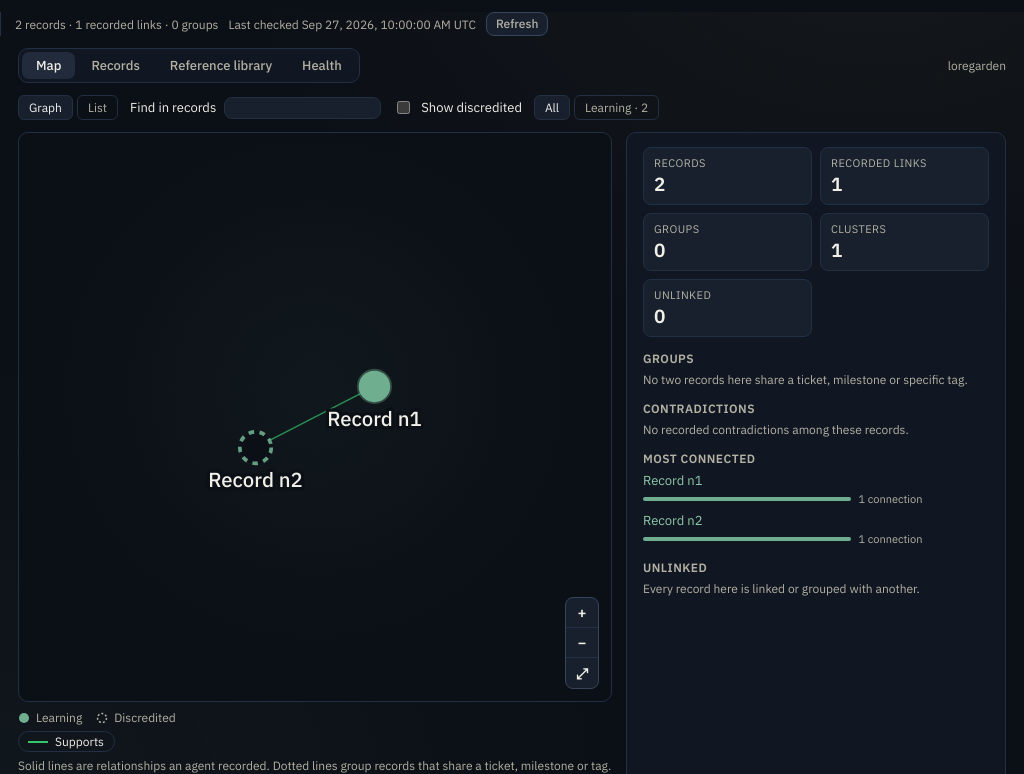
Test: names a filter that matched nothing and clears it
Expected: the element with test id "knowledge-canvas" is shown, top-left (18, 132), bottom-right (612, 702)
Type "zebra" into the search field labelled "Find in records" at point(303, 108), box top-left (224, 97), bottom-right (381, 119)
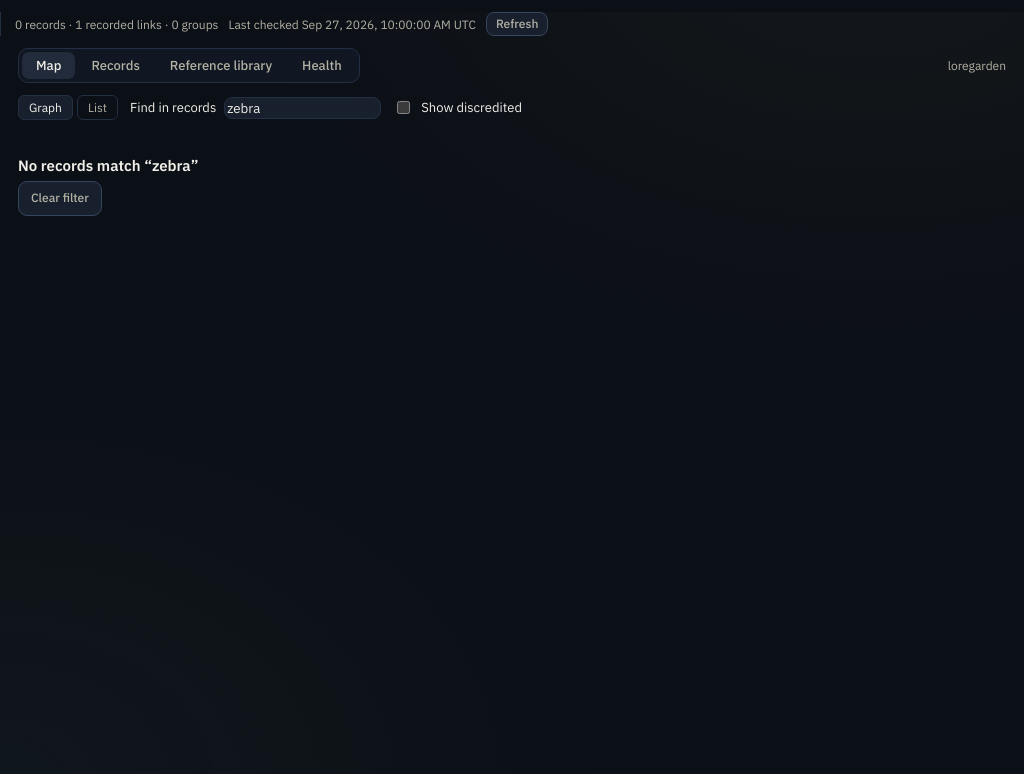
Now the heading "No records match “zebra”" is shown, box top-left (18, 156), bottom-right (198, 175)
Click the button "Clear filter" at point(60, 199), box top-left (18, 181), bottom-right (102, 216)
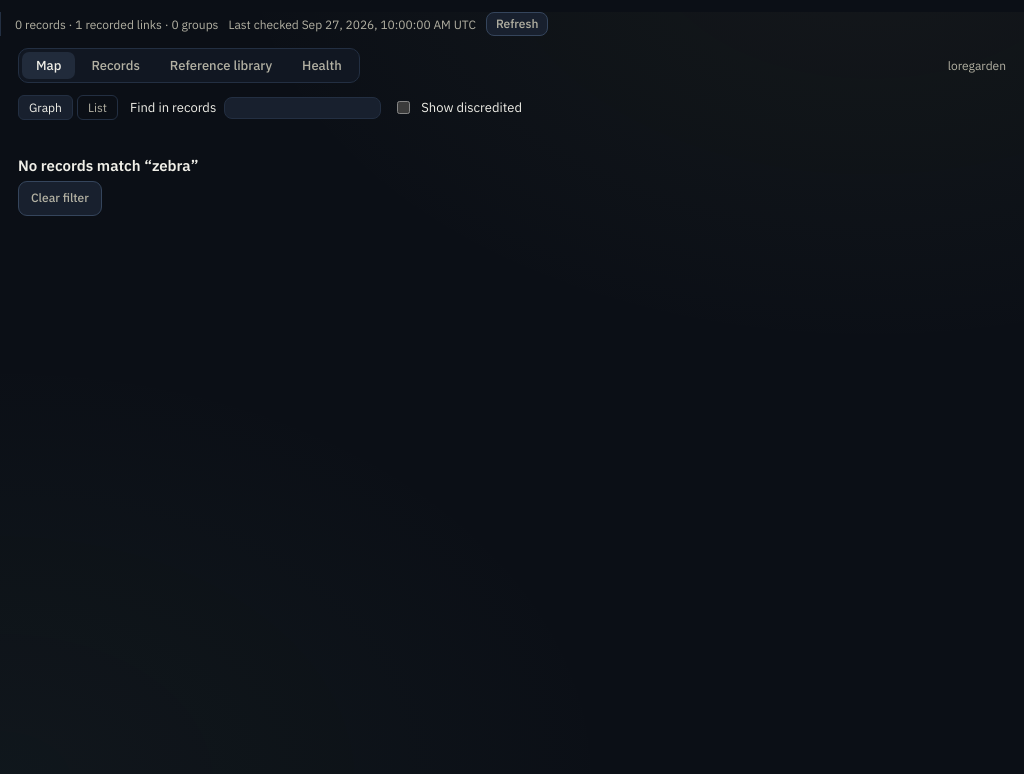
Now the search field labelled "Find in records" is empty, box top-left (224, 97), bottom-right (381, 119)
